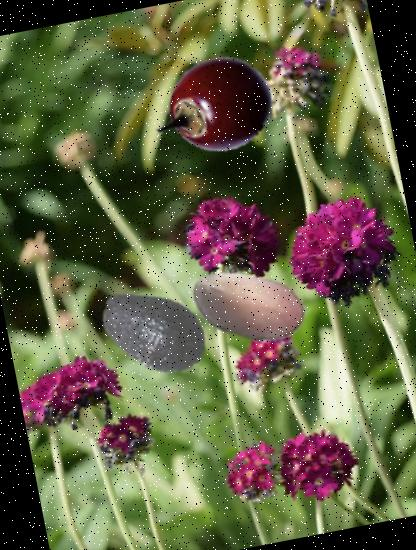Avocado: (90, 263, 218, 392)
Hazelnut: (176, 233, 320, 377)
Tamarillo: (153, 44, 283, 174)
